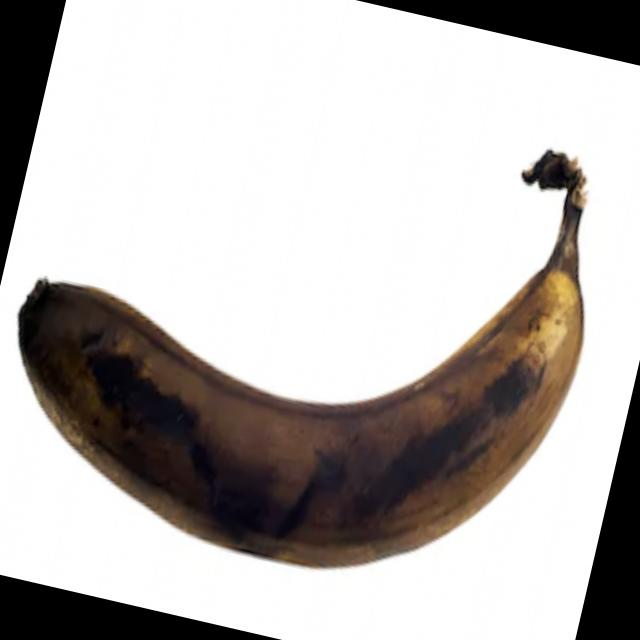rotten-banana: (0, 31, 626, 623)
